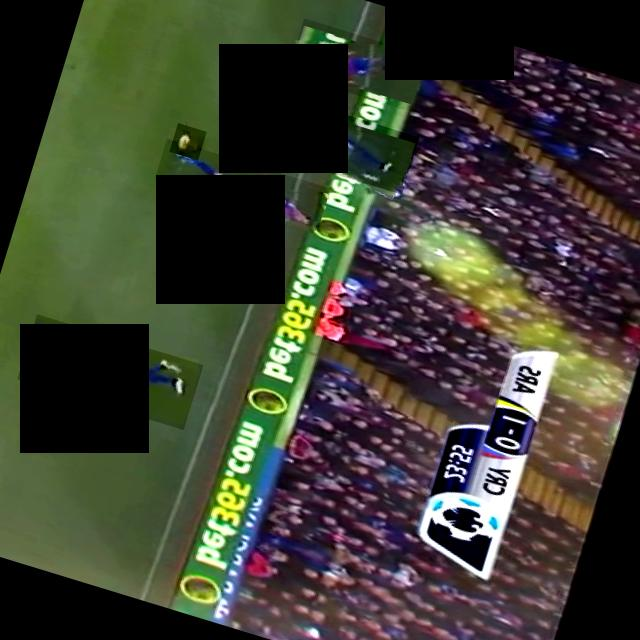ball: (169, 122, 206, 159)
soccer-player: (17, 313, 203, 429), (248, 89, 420, 193), (154, 138, 330, 228), (287, 17, 427, 110)
